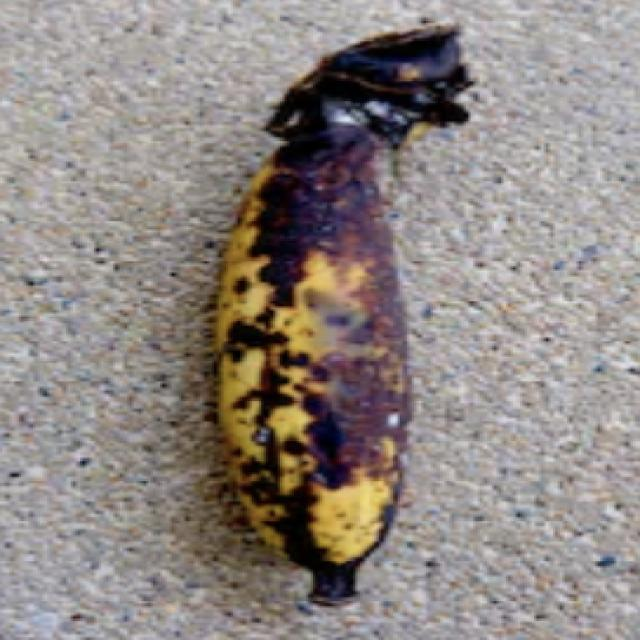Rotten: (171, 23, 528, 640)
